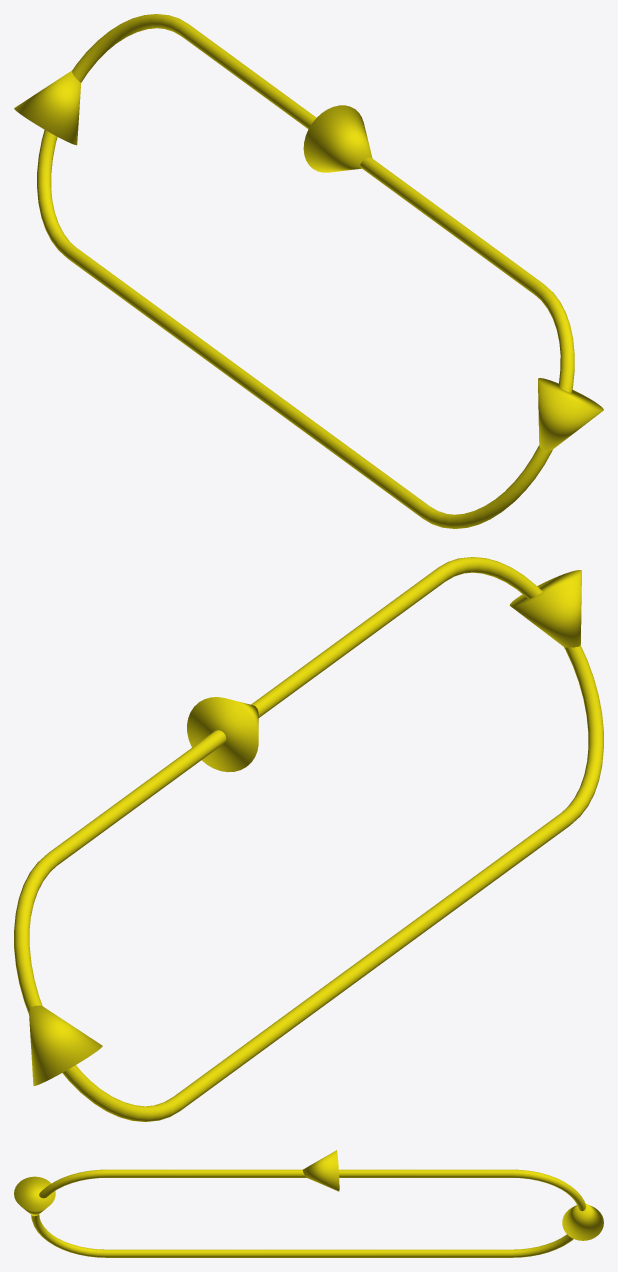
Rendered from magneticFieldLinesForGltf.gltf.
3 renders of one model, top to bottom at view 1: azimuth 30°, elevation 25°; view 2: azimuth 150°, elevation 25°; view 3: azimuth 270°, elevation 25°, orthographic. The views are drawn at different scales.
Visible parts, largest first — view 1: Cone.005; view 2: Cone.005; view 3: Cone.005.
Part boxes in pixels (x1,y1,x2,y2): Cone.005: (14, 14, 603, 528); Cone.005: (14, 557, 603, 1121); Cone.005: (14, 1150, 603, 1257).
Size of the model in its own units: 1.64 by 2.53 by 9.93.
